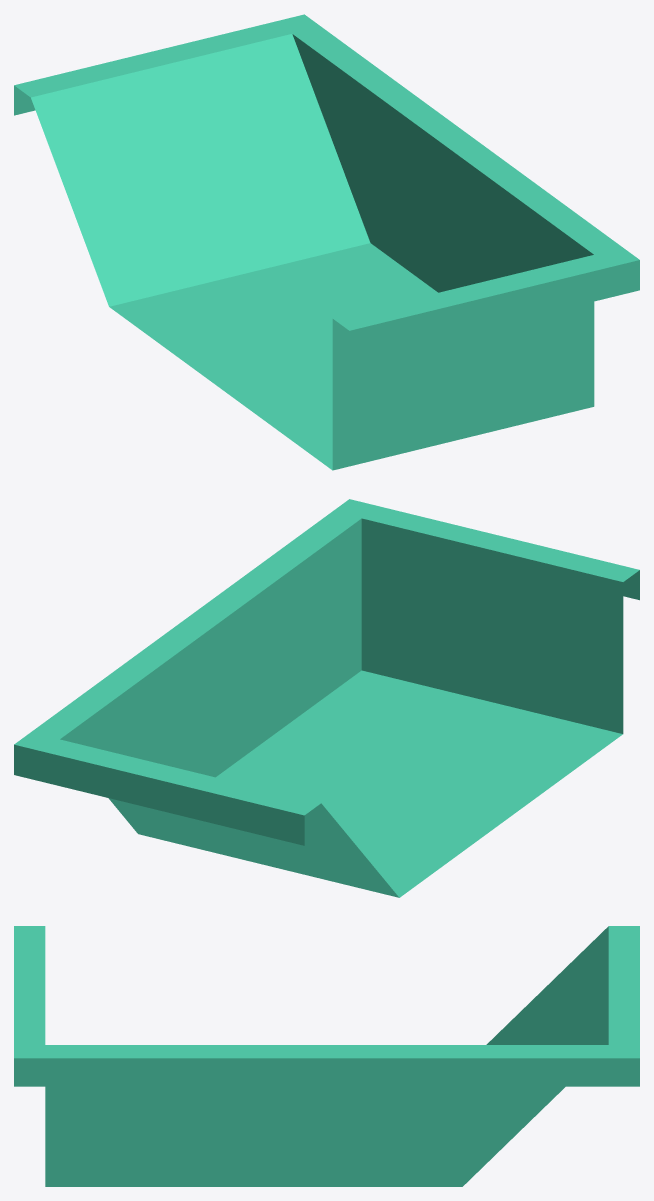
File: Floor_1x2m_A_End.FBX
3 views of the same model, one above another, from view 1: azimuth 30°, elevation 25°; view 2: azimuth 150°, elevation 25°; view 3: azimuth 270°, elevation 25° (orthographic). The views are drawn at different scales.
Visible parts, largest first — view 1: Floor_1x2m_A_End; view 2: Floor_1x2m_A_End; view 3: Floor_1x2m_A_End.
Part boxes in pixels (x1=…): Floor_1x2m_A_End: x1=14, y1=14, x2=639, y2=470; Floor_1x2m_A_End: x1=14, y1=499, x2=639, y2=897; Floor_1x2m_A_End: x1=14, y1=926, x2=639, y2=1186.
Bounding box in the file's own units: 100 × 50 × 200.
